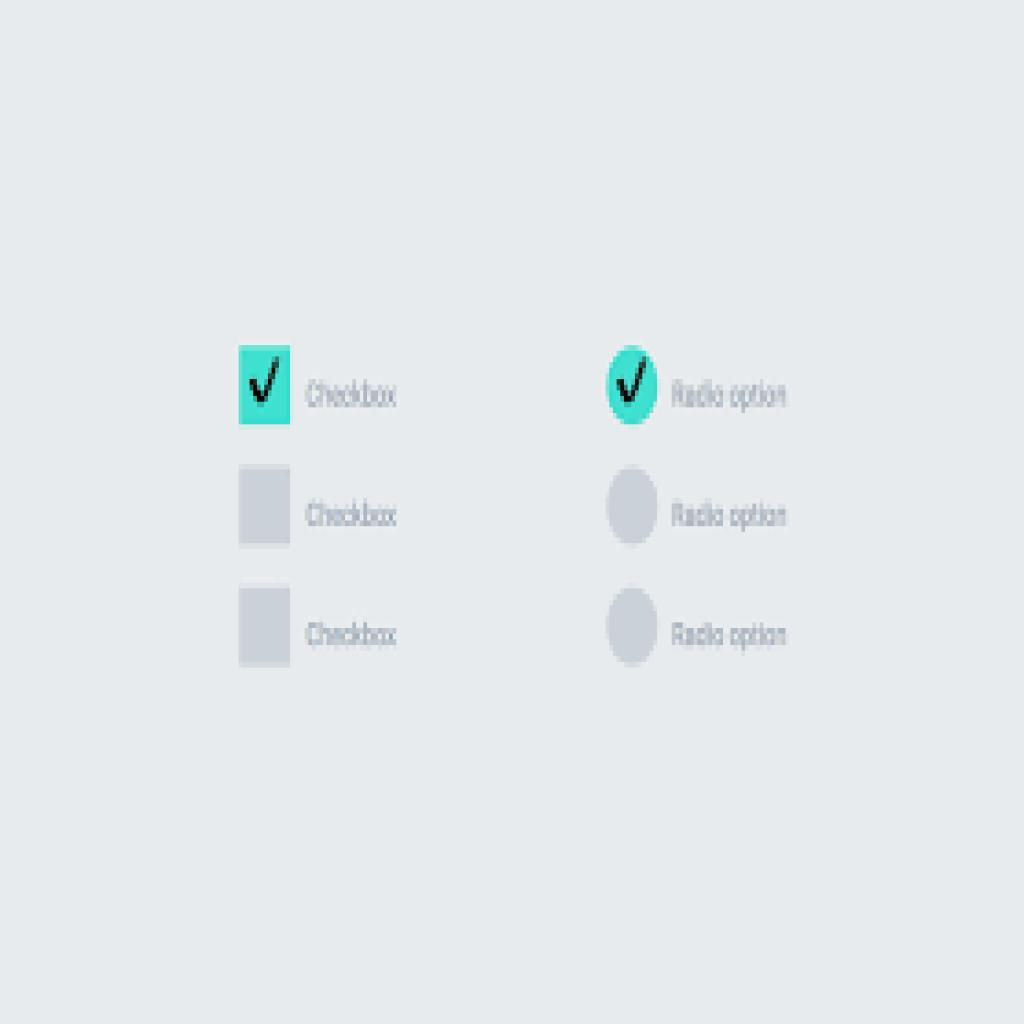checkbox: (240, 465, 292, 550), (238, 346, 292, 427), (240, 588, 292, 668)
radio: (604, 586, 662, 675), (605, 465, 663, 550), (605, 344, 662, 427)
